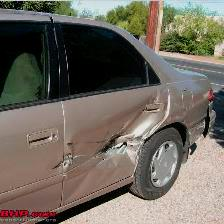door_dent: (57, 131, 142, 184), (127, 97, 174, 127)
